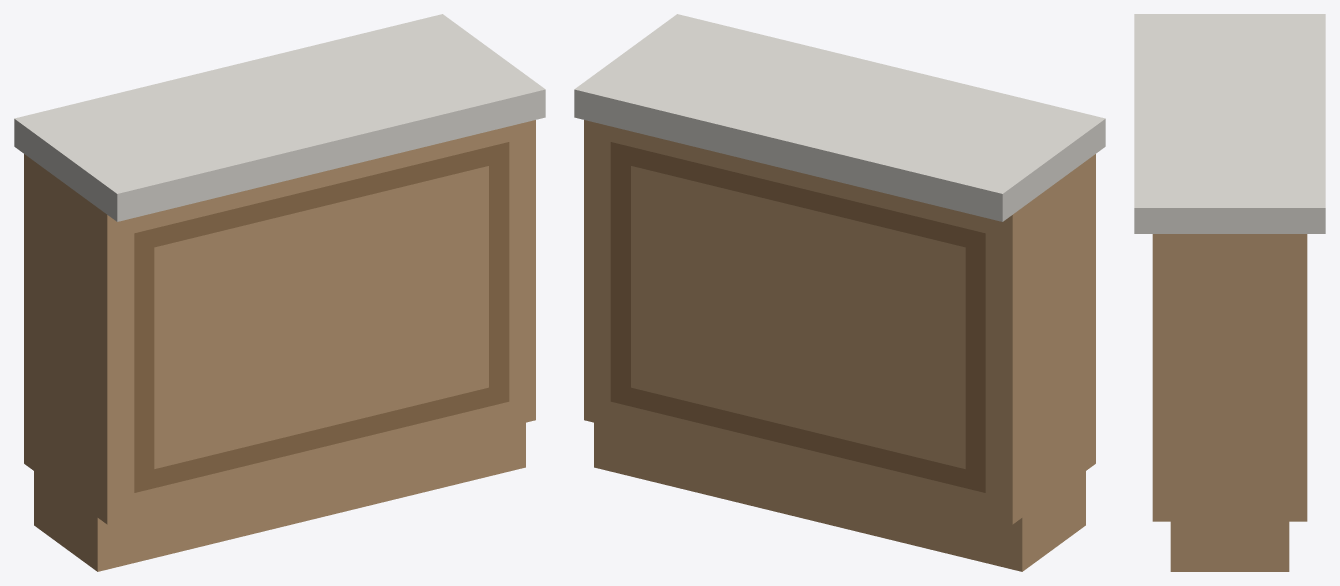
The model's file is kitchen-bar.glb.
3 views of the same model, side by side, from view 1: azimuth 30°, elevation 25°; view 2: azimuth 150°, elevation 25°; view 3: azimuth 270°, elevation 25° (orthographic). The views are drawn at different scales.
Visible parts, largest first — view 1: kitchen-bar; view 2: kitchen-bar; view 3: kitchen-bar.
Part boxes in pixels (x1,y1,x2,y2): kitchen-bar: (14, 14, 545, 571); kitchen-bar: (574, 14, 1105, 571); kitchen-bar: (1134, 14, 1325, 571).
Bounding box in the file's own units: 1.2 × 1.05 × 0.5.
